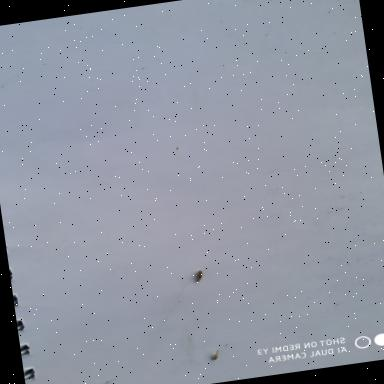pbw: (206, 346, 225, 364), (192, 268, 206, 282)
